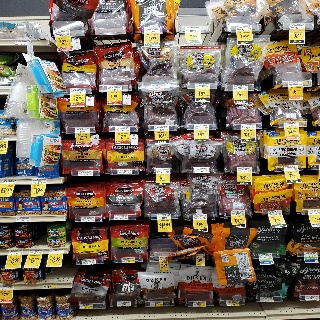All PRICE TAGS: (54, 29, 70, 36), (143, 27, 160, 33), (235, 25, 252, 31), (184, 26, 200, 32), (288, 81, 304, 87), (259, 296, 274, 302), (148, 301, 163, 307), (121, 257, 136, 263), (81, 259, 96, 265), (70, 88, 85, 94), (108, 85, 123, 91), (195, 83, 210, 89), (154, 125, 169, 131), (194, 167, 209, 173), (289, 24, 306, 29), (226, 300, 240, 306), (192, 301, 206, 307), (116, 301, 130, 307), (79, 303, 93, 309), (32, 179, 47, 184), (1, 179, 16, 184), (233, 85, 248, 90), (75, 128, 90, 133), (115, 127, 130, 132), (194, 125, 209, 130), (241, 124, 256, 129), (284, 122, 299, 127), (78, 170, 93, 175), (117, 169, 132, 174), (237, 167, 252, 172), (268, 210, 282, 215), (231, 210, 245, 215), (193, 214, 207, 219), (157, 214, 171, 219), (114, 215, 128, 220), (81, 217, 95, 222), (284, 165, 298, 170), (16, 217, 30, 222), (156, 168, 170, 173), (304, 252, 317, 257), (305, 295, 318, 300), (9, 250, 22, 255), (43, 284, 57, 288), (0, 285, 14, 289), (29, 250, 43, 254), (259, 254, 272, 258), (50, 249, 63, 253), (0, 136, 9, 141), (308, 210, 319, 214), (15, 41, 26, 45), (197, 254, 205, 259), (160, 257, 167, 261)
